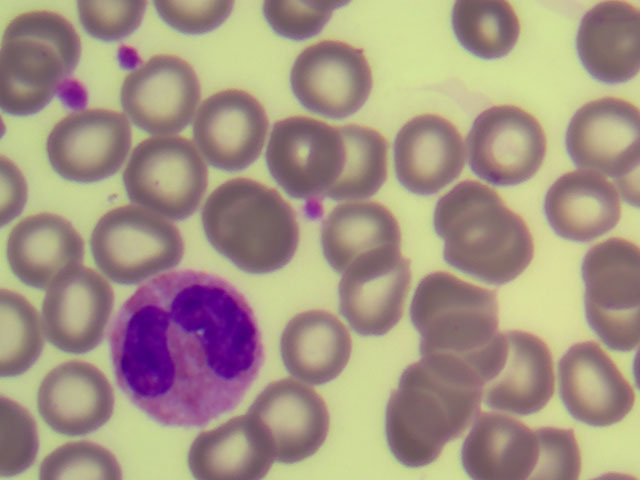RBC: (209, 183, 298, 264), (400, 356, 478, 444), (264, 308, 351, 385), (422, 311, 507, 388), (40, 265, 108, 354), (340, 251, 410, 335), (419, 272, 497, 347), (561, 344, 634, 424), (291, 43, 373, 113), (50, 110, 130, 179), (193, 94, 265, 170), (397, 115, 466, 193), (327, 120, 388, 207), (451, 213, 532, 278), (131, 145, 207, 213), (270, 121, 343, 191), (264, 382, 328, 461), (99, 208, 181, 269), (578, 5, 640, 83), (11, 218, 82, 286), (498, 329, 555, 413), (39, 364, 106, 435), (330, 207, 403, 272), (117, 74, 203, 129), (5, 14, 84, 73), (389, 390, 446, 469), (551, 172, 618, 239), (465, 413, 536, 475), (449, 1, 520, 62), (190, 427, 271, 480), (578, 102, 640, 171), (473, 109, 543, 167), (1, 43, 55, 114), (1, 287, 40, 375), (589, 240, 640, 306), (529, 425, 584, 480), (1, 394, 37, 478), (583, 298, 640, 349), (41, 445, 121, 480), (435, 189, 497, 229), (153, 1, 239, 26), (79, 1, 146, 29), (2, 156, 23, 222), (623, 151, 640, 209), (597, 470, 640, 480)
WBC: (116, 278, 259, 421)
platelets: (59, 79, 92, 110), (118, 39, 143, 69), (305, 196, 324, 221), (486, 171, 503, 186)
